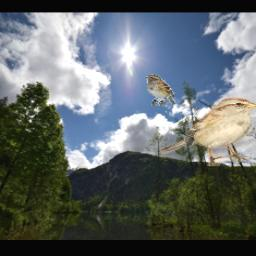Sparrow: (159, 97, 256, 166), (146, 74, 176, 106)
